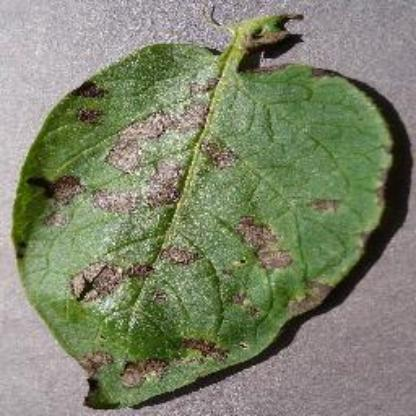Early-Blight: (13, 14, 395, 408)
